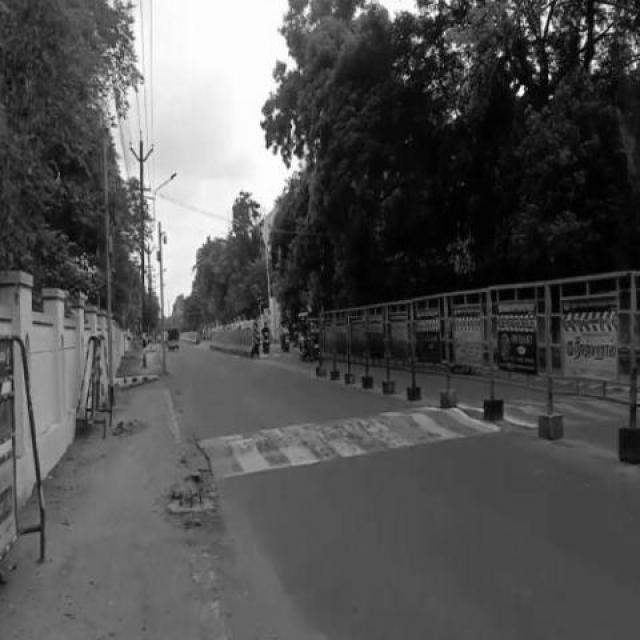Speed Bump: (197, 404, 482, 484), (562, 397, 624, 427), (503, 394, 538, 429)
